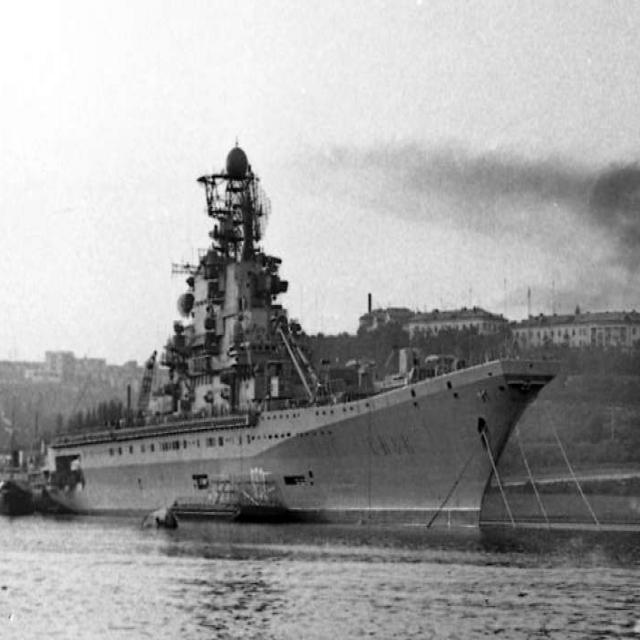Portanaves: (1, 125, 561, 542)
